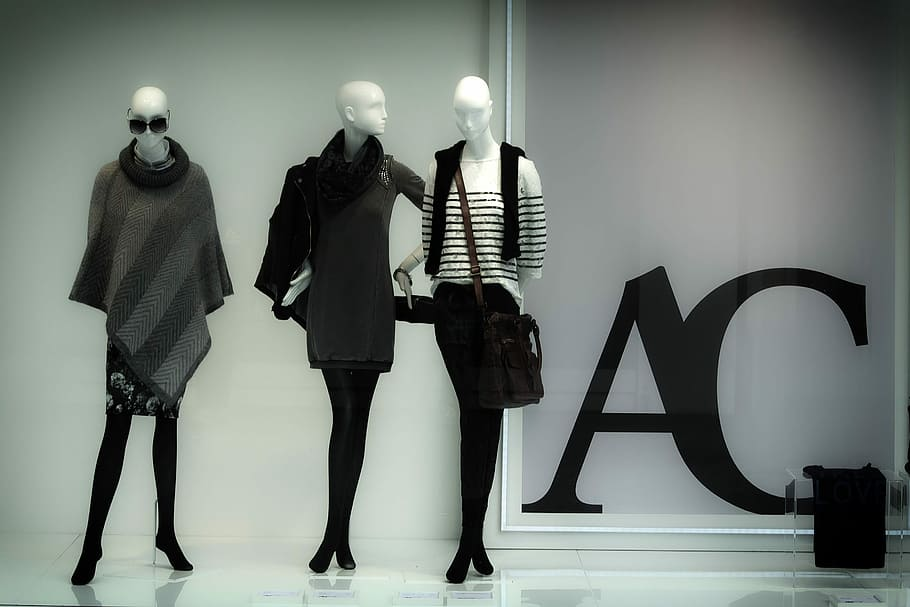person-like: (250, 75, 430, 579), (65, 81, 238, 591), (415, 70, 551, 587)
